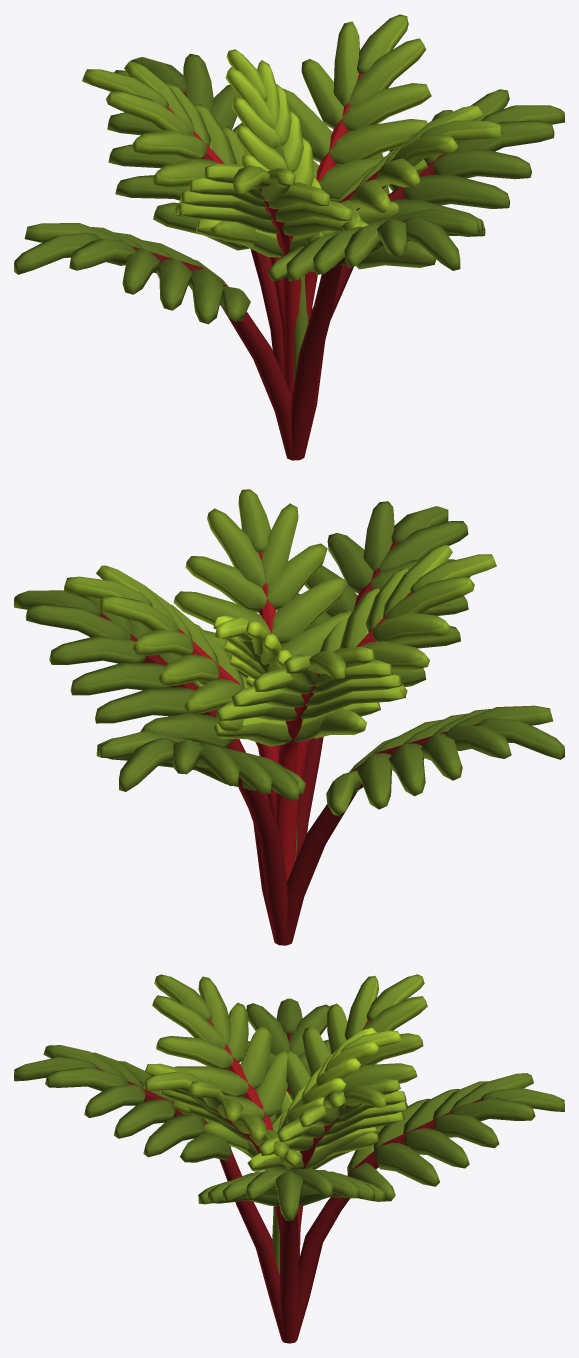
File: palm_tree_small_red_LOD_group.fbx
3 renders of one model, top to bottom at view 1: azimuth 30°, elevation 25°; view 2: azimuth 150°, elevation 25°; view 3: azimuth 270°, elevation 25°, orthographic. The views are drawn at different scales.
Parts seen in each view (by area): view 1: palm_tree_small_red_LOD0; view 2: palm_tree_small_red_LOD0; view 3: palm_tree_small_red_LOD0.
Boxes of the visible parts, <box> form: palm_tree_small_red_LOD0: <box>14,14,564,460</box>; palm_tree_small_red_LOD0: <box>14,489,564,945</box>; palm_tree_small_red_LOD0: <box>14,974,564,1343</box>.
Size of what is drawn, in the model's own units: 493 by 314 by 503.
1 material, 1 textured.
